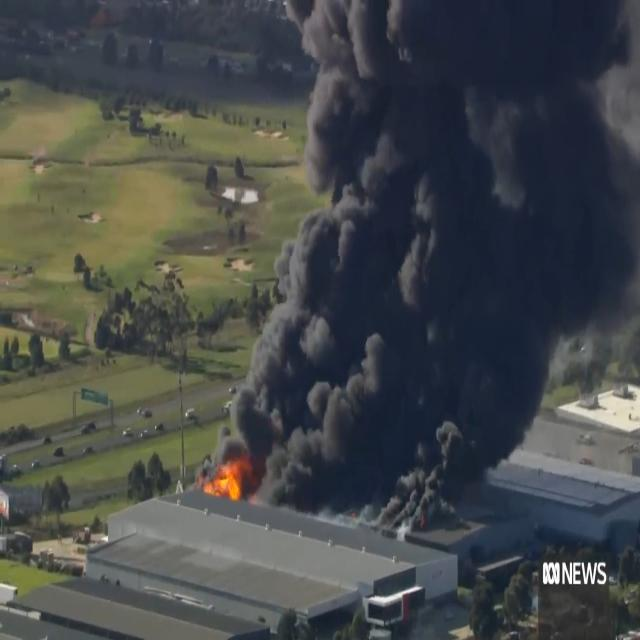fire: (205, 464, 249, 500)
